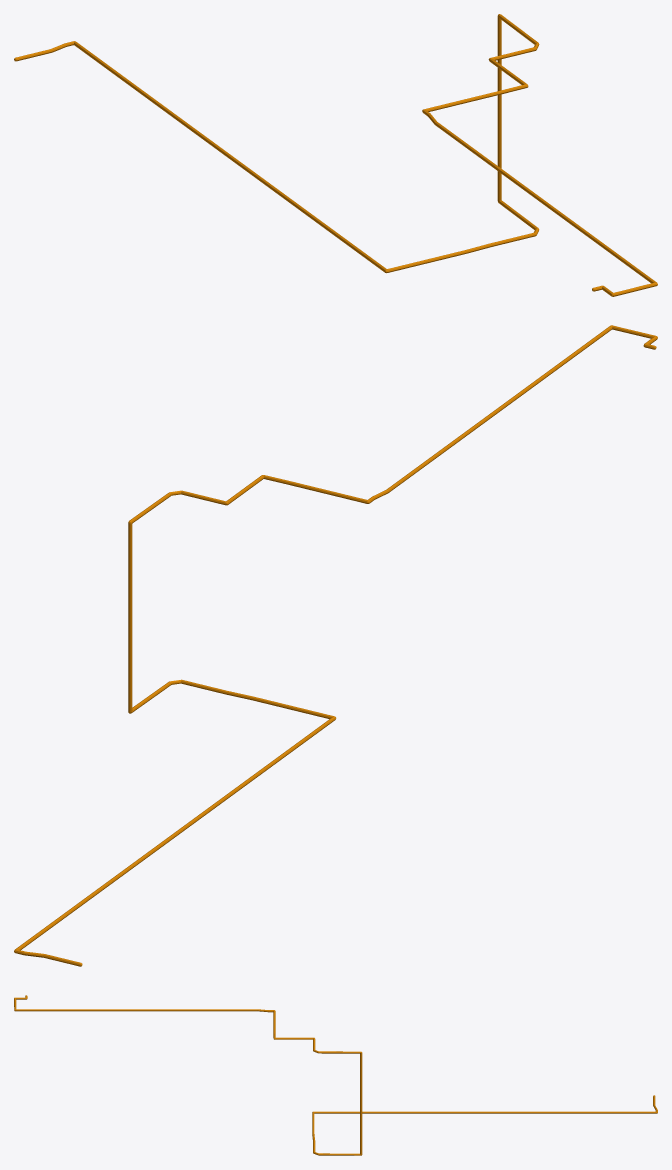
The picture shows the model from 3 angles, top to bottom: view 1: azimuth 30°, elevation 25°; view 2: azimuth 150°, elevation 25°; view 3: azimuth 270°, elevation 25°; orthographic projection. The views are drawn at different scales.
Bounding box in the file's own units: 1248 × 1020 × 5718.
